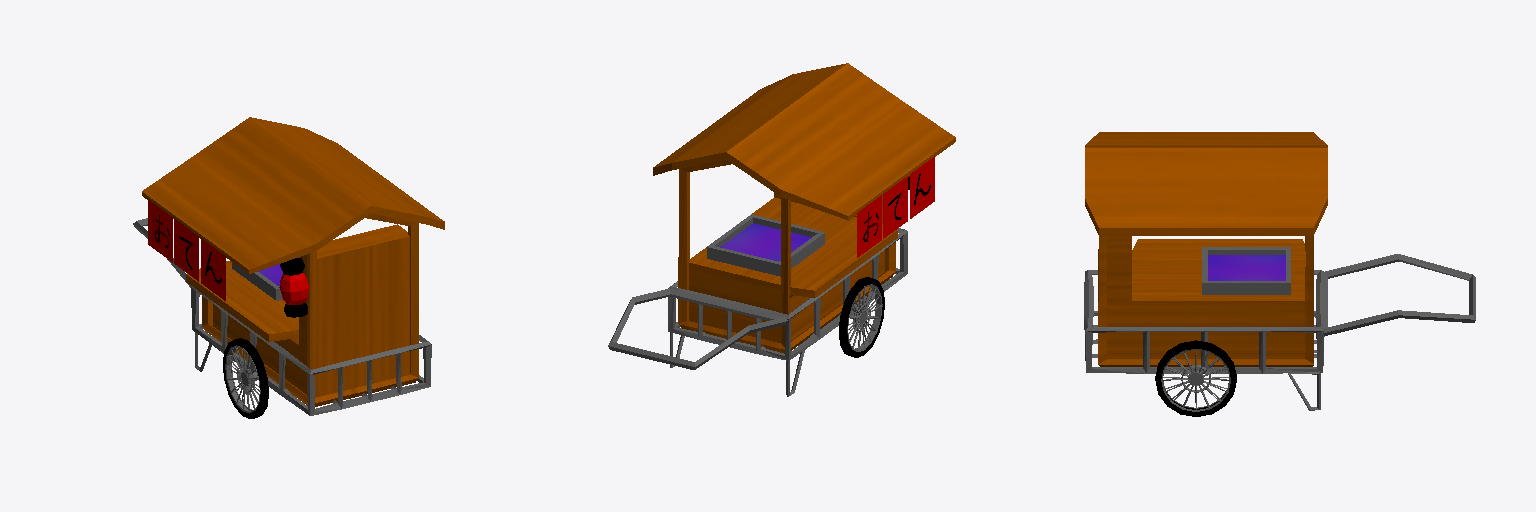
3 renders of one model, left to right at view 1: azimuth 30°, elevation 25°; view 2: azimuth 150°, elevation 25°; view 3: azimuth 270°, elevation 25°, orthographic.
Parts seen in each view (by area): view 1: 立方体, 立方体.001; view 2: 立方体, 立方体.001; view 3: 立方体, 立方体.001.
Boxes of the visible parts, <box> form: 立方体: <box>142,117,444,406</box>; 立方体.001: <box>133,200,431,418</box>; 立方体: <box>653,63,955,353</box>; 立方体.001: <box>608,156,934,396</box>; 立方体: <box>1085,132,1327,366</box>; 立方体.001: <box>1084,254,1475,416</box>.
Size of the model in its own units: 344 by 391 by 592.
2 materials, 1 textured.